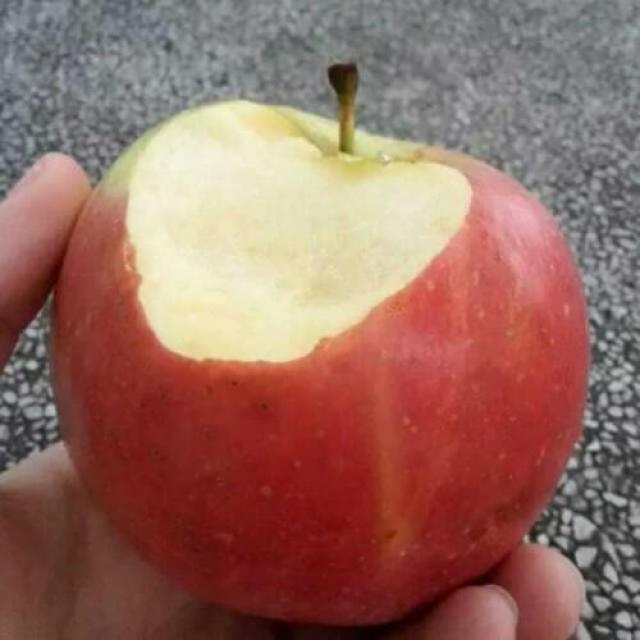Rotten: (62, 109, 581, 640)
